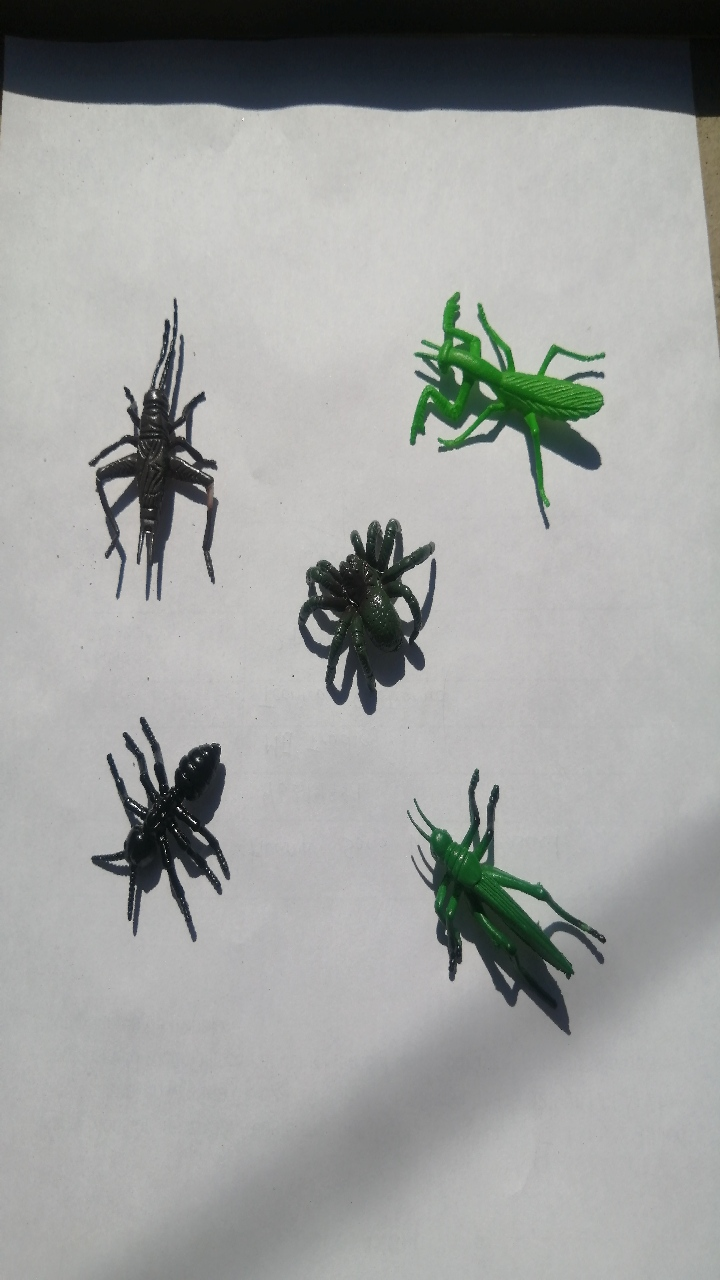intruso: (386, 742, 618, 1035), (380, 257, 617, 543), (64, 255, 246, 612), (57, 666, 266, 951), (258, 480, 460, 746)
